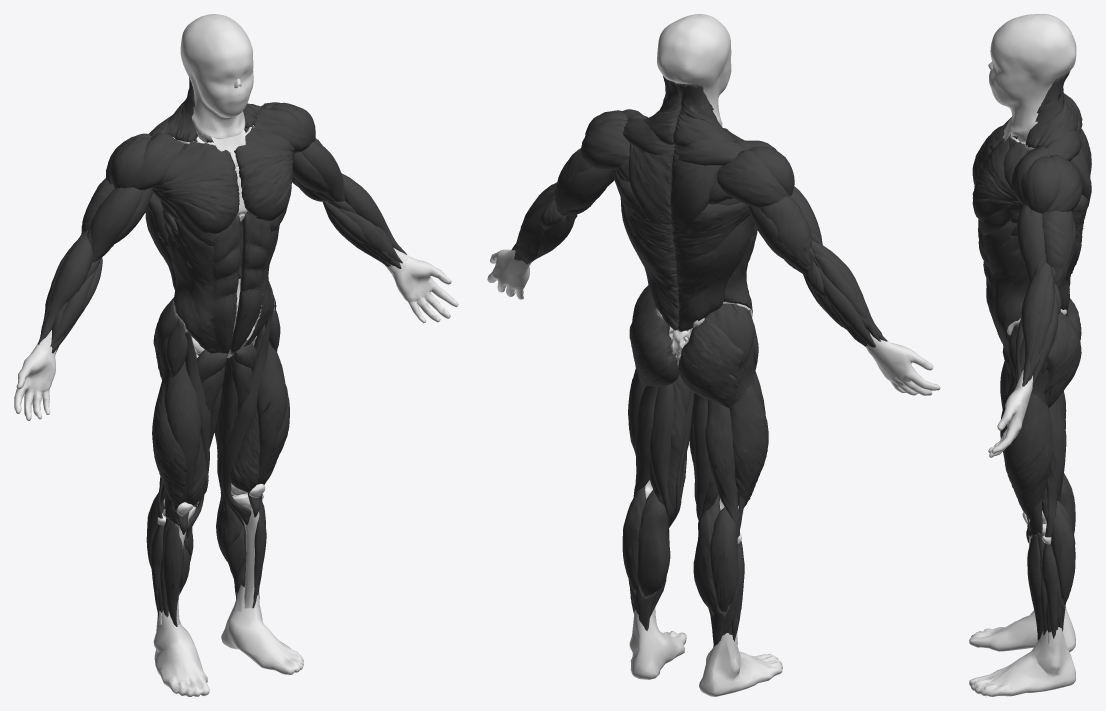
Rendered from corpo-8.glb.
The picture shows the model from 3 angles, left to right: view 1: azimuth 30°, elevation 25°; view 2: azimuth 150°, elevation 25°; view 3: azimuth 270°, elevation 25°; orthographic projection.
Visible parts, largest first — view 1: pele, peito_medial, deco, cabeca, quad_reto_femoral, obliquos, adutores, antebraco_flexores, abdomen_supra, biceps_longa, antebraco_braquiorradial, ombro_frontal (+15 smaller); view 2: pele, panturrilha_gastro, gluteo_maximo, dorsal_inferior, isquio_semitendineo, dorsal_superior, trapezio_inferior, cabeca, antebraco_extensores, ombro_posterior, isquio_biceps_femoral, quad_vasto_lateral (+12 smaller); view 3: pele, cabeca, quad_vasto_lateral, obliquos, deco, peito_medial, gluteo_maximo, panturrilha_gastro, trapezio_superior, isquio_biceps_femoral, triceps_lateral, antebraco_braquiorradial (+20 smaller).
Boxes of the visible parts, left/top/right/bottom form: pele: left=14, top=247, right=458, bottom=696; peito_medial: left=152, top=139, right=294, bottom=233; deco: left=151, top=139, right=273, bottom=626; cabeca: left=180, top=14, right=253, bottom=142; quad_reto_femoral: left=164, top=324, right=286, bottom=534; obliquos: left=167, top=218, right=279, bottom=353; adutores: left=187, top=340, right=257, bottom=539; antebraco_flexores: left=50, top=200, right=402, bottom=353; abdomen_supra: left=213, top=212, right=271, bottom=295; biceps_longa: left=90, top=141, right=345, bottom=262; antebraco_braquiorradial: left=38, top=173, right=406, bottom=344; ombro_frontal: left=133, top=107, right=310, bottom=190; pele: left=487, top=249, right=940, bottom=696; panturrilha_gastro: left=622, top=485, right=738, bottom=612; gluteo_maximo: left=629, top=304, right=743, bottom=408; dorsal_inferior: left=625, top=227, right=746, bottom=331; isquio_semitendineo: left=649, top=381, right=718, bottom=523; dorsal_superior: left=613, top=169, right=754, bottom=258; trapezio_inferior: left=628, top=143, right=722, bottom=231; cabeca: left=657, top=14, right=731, bottom=127; antebraco_extensores: left=514, top=189, right=880, bottom=347; ombro_posterior: left=580, top=119, right=788, bottom=208; isquio_biceps_femoral: left=633, top=386, right=739, bottom=537; quad_vasto_lateral: left=628, top=368, right=768, bottom=507; pele: left=969, top=370, right=1076, bottom=696; cabeca: left=989, top=14, right=1076, bottom=141; quad_vasto_lateral: left=1004, top=394, right=1053, bottom=535; obliquos: left=982, top=221, right=1029, bottom=348; deco: left=1007, top=134, right=1065, bottom=640; peito_medial: left=972, top=123, right=1019, bottom=221; gluteo_maximo: left=1044, top=298, right=1081, bottom=408; panturrilha_gastro: left=1051, top=473, right=1075, bottom=604; trapezio_superior: left=1025, top=70, right=1077, bottom=148; isquio_biceps_femoral: left=1042, top=391, right=1066, bottom=537; triceps_lateral: left=1042, top=210, right=1074, bottom=284; antebraco_braquiorradial: left=1021, top=262, right=1052, bottom=386.
Bounding box in the file's own units: 1.19 × 1.66 × 0.2829.
1 material, 1 textured.
